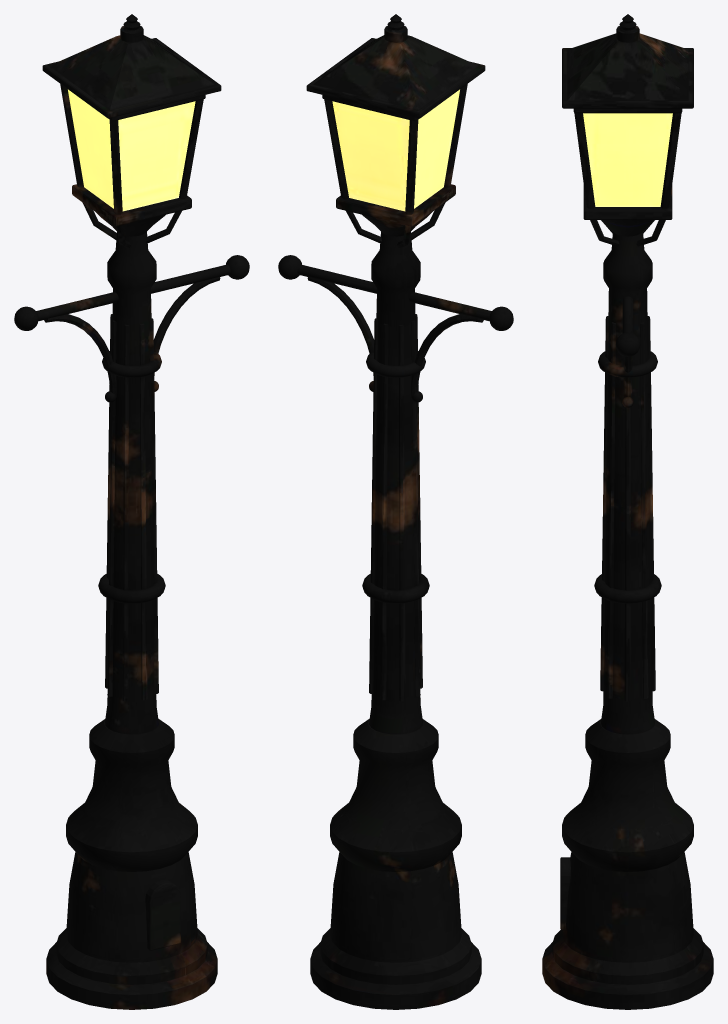
Rendered from gen_street_lamp.mobile-mid.glb.
3 views of the same model, side by side, from view 1: azimuth 30°, elevation 25°; view 2: azimuth 150°, elevation 25°; view 3: azimuth 270°, elevation 25° (orthographic).
Parts seen in each view (by area): view 1: gen_street_lamp; view 2: gen_street_lamp; view 3: gen_street_lamp.
Part boxes in pixels (left/top/right/bottom): gen_street_lamp: left=14, top=14, right=249, bottom=1009; gen_street_lamp: left=278, top=14, right=513, bottom=1009; gen_street_lamp: left=542, top=14, right=713, bottom=1009.
Bounding box in the file's own units: 0.815 × 3.21 × 0.52.
1 material, 1 textured.
